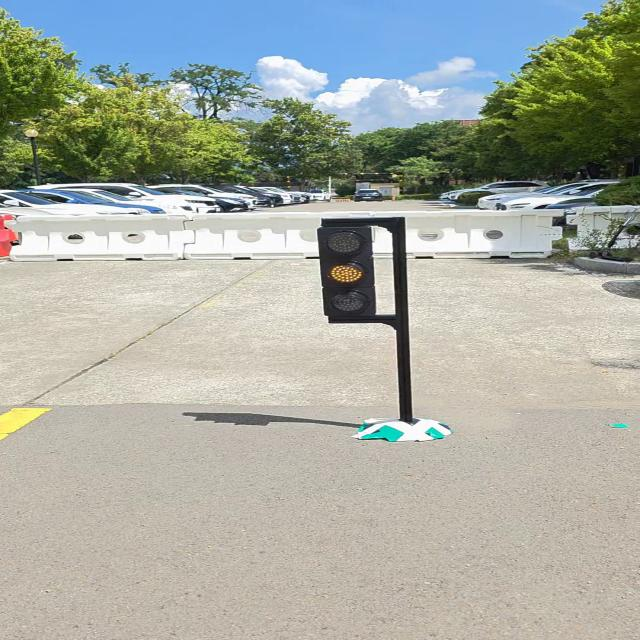yellow: (315, 226, 379, 316)
